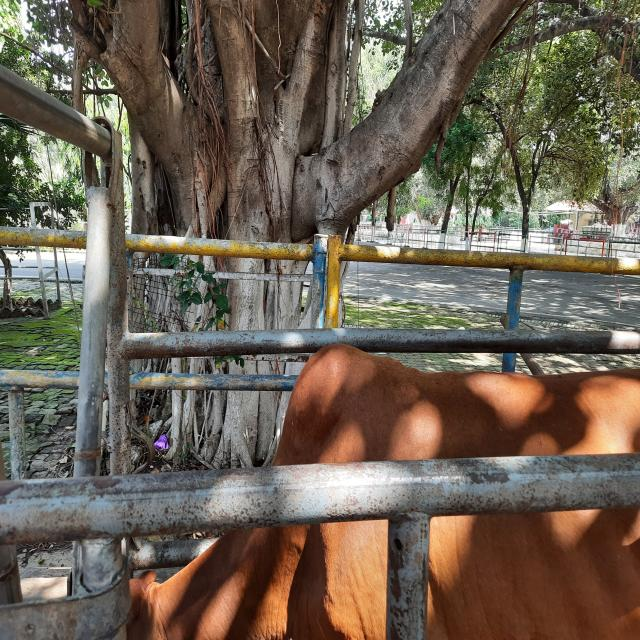cow: (126, 342, 639, 640)
hump: (285, 316, 384, 417)
